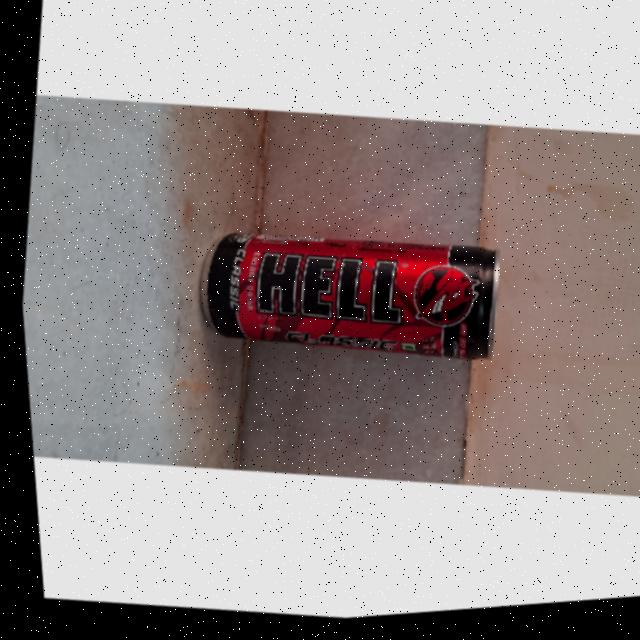Hell Classic: (187, 203, 514, 395)
